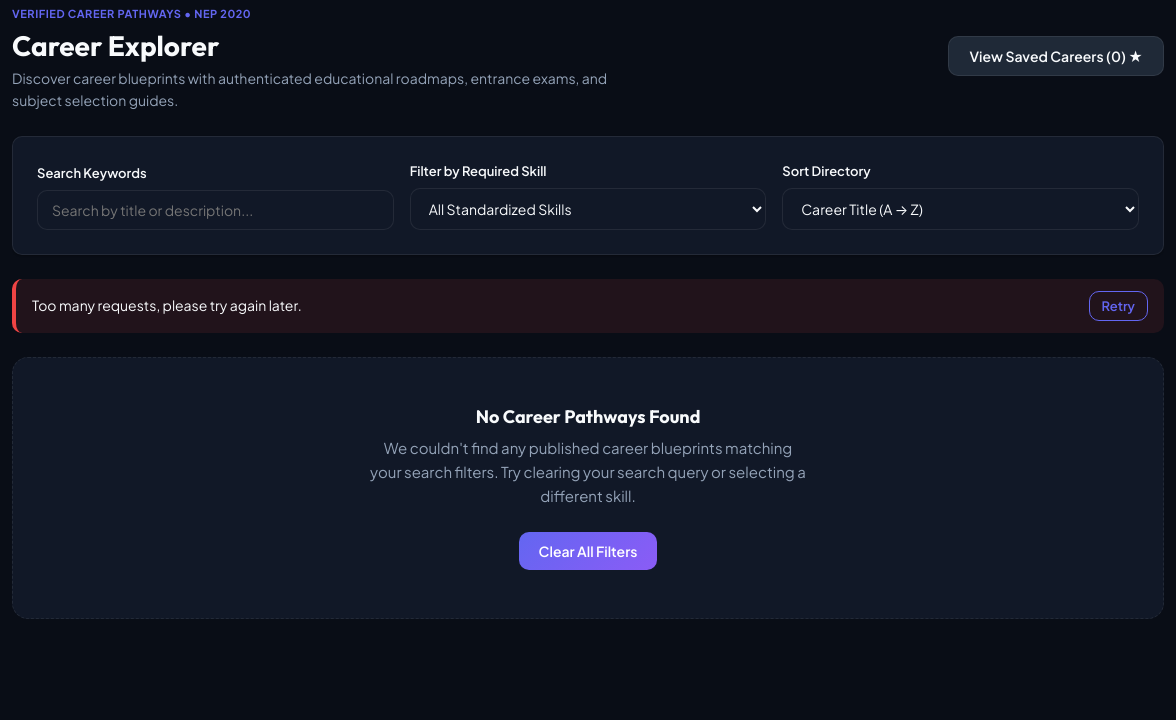
Test: Career Explorer & Details (CareerExplorerPage, CareerDetailPage, SavedCareersPage) › CareerExplorerPage › displays rate-limit error banner and successfully recovers when clicking Retry on page 1
expect the message shows "Too many requests, please try again later": met, box [32,296,302,314]
// Clicking Retry while on page 1 must re-execute API fetch
Click the button "Retry" at (1118, 306), box [1088,291,1148,321]
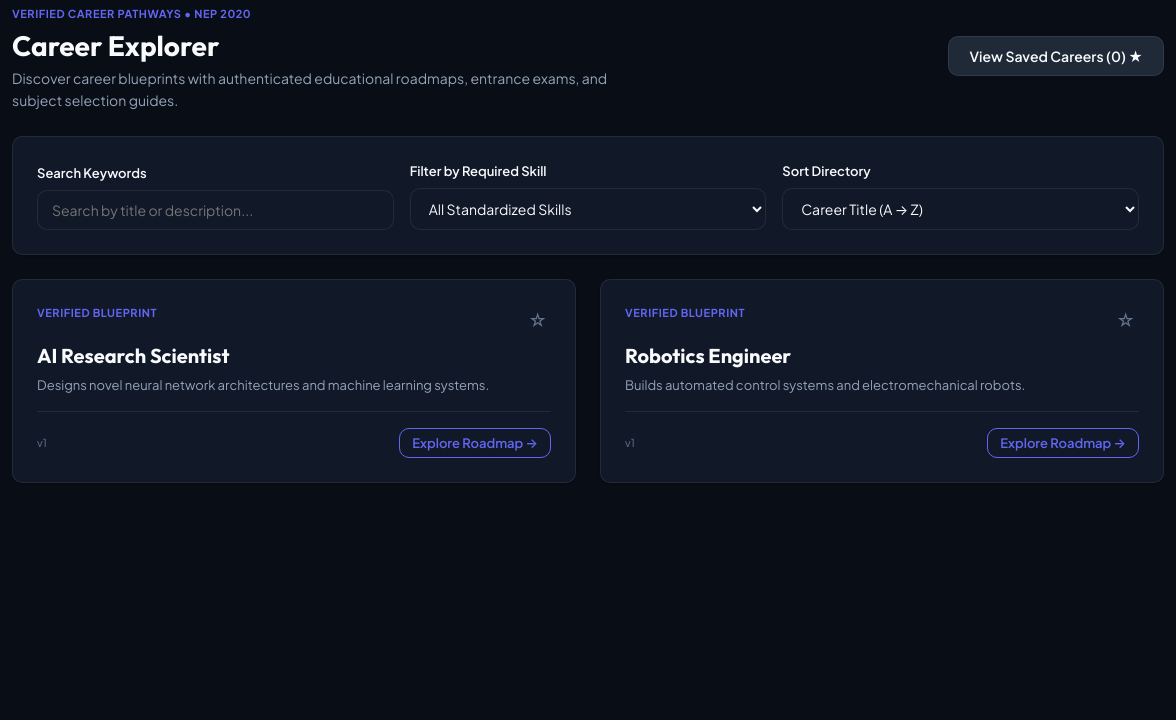
expect the message "Too many requests, please try again later. Retry" is gone: met
expect the heading "AI Research Scientist" is shown: met, box [37,343,229,368]
